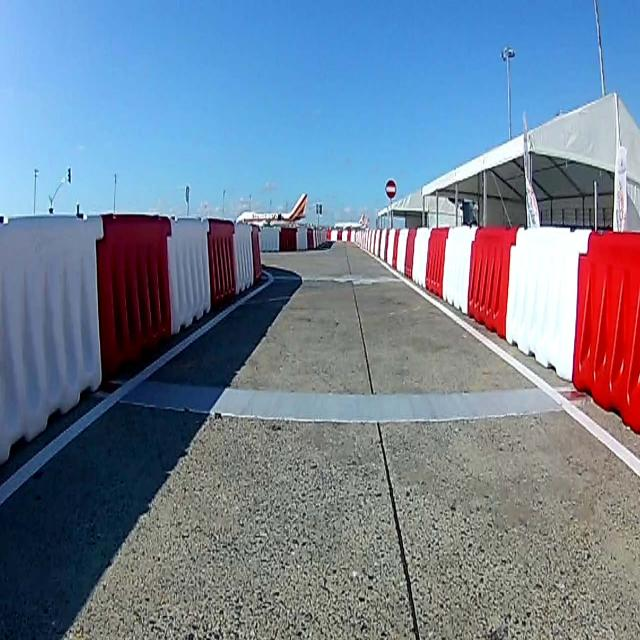girisyok: (384, 177, 398, 201)
